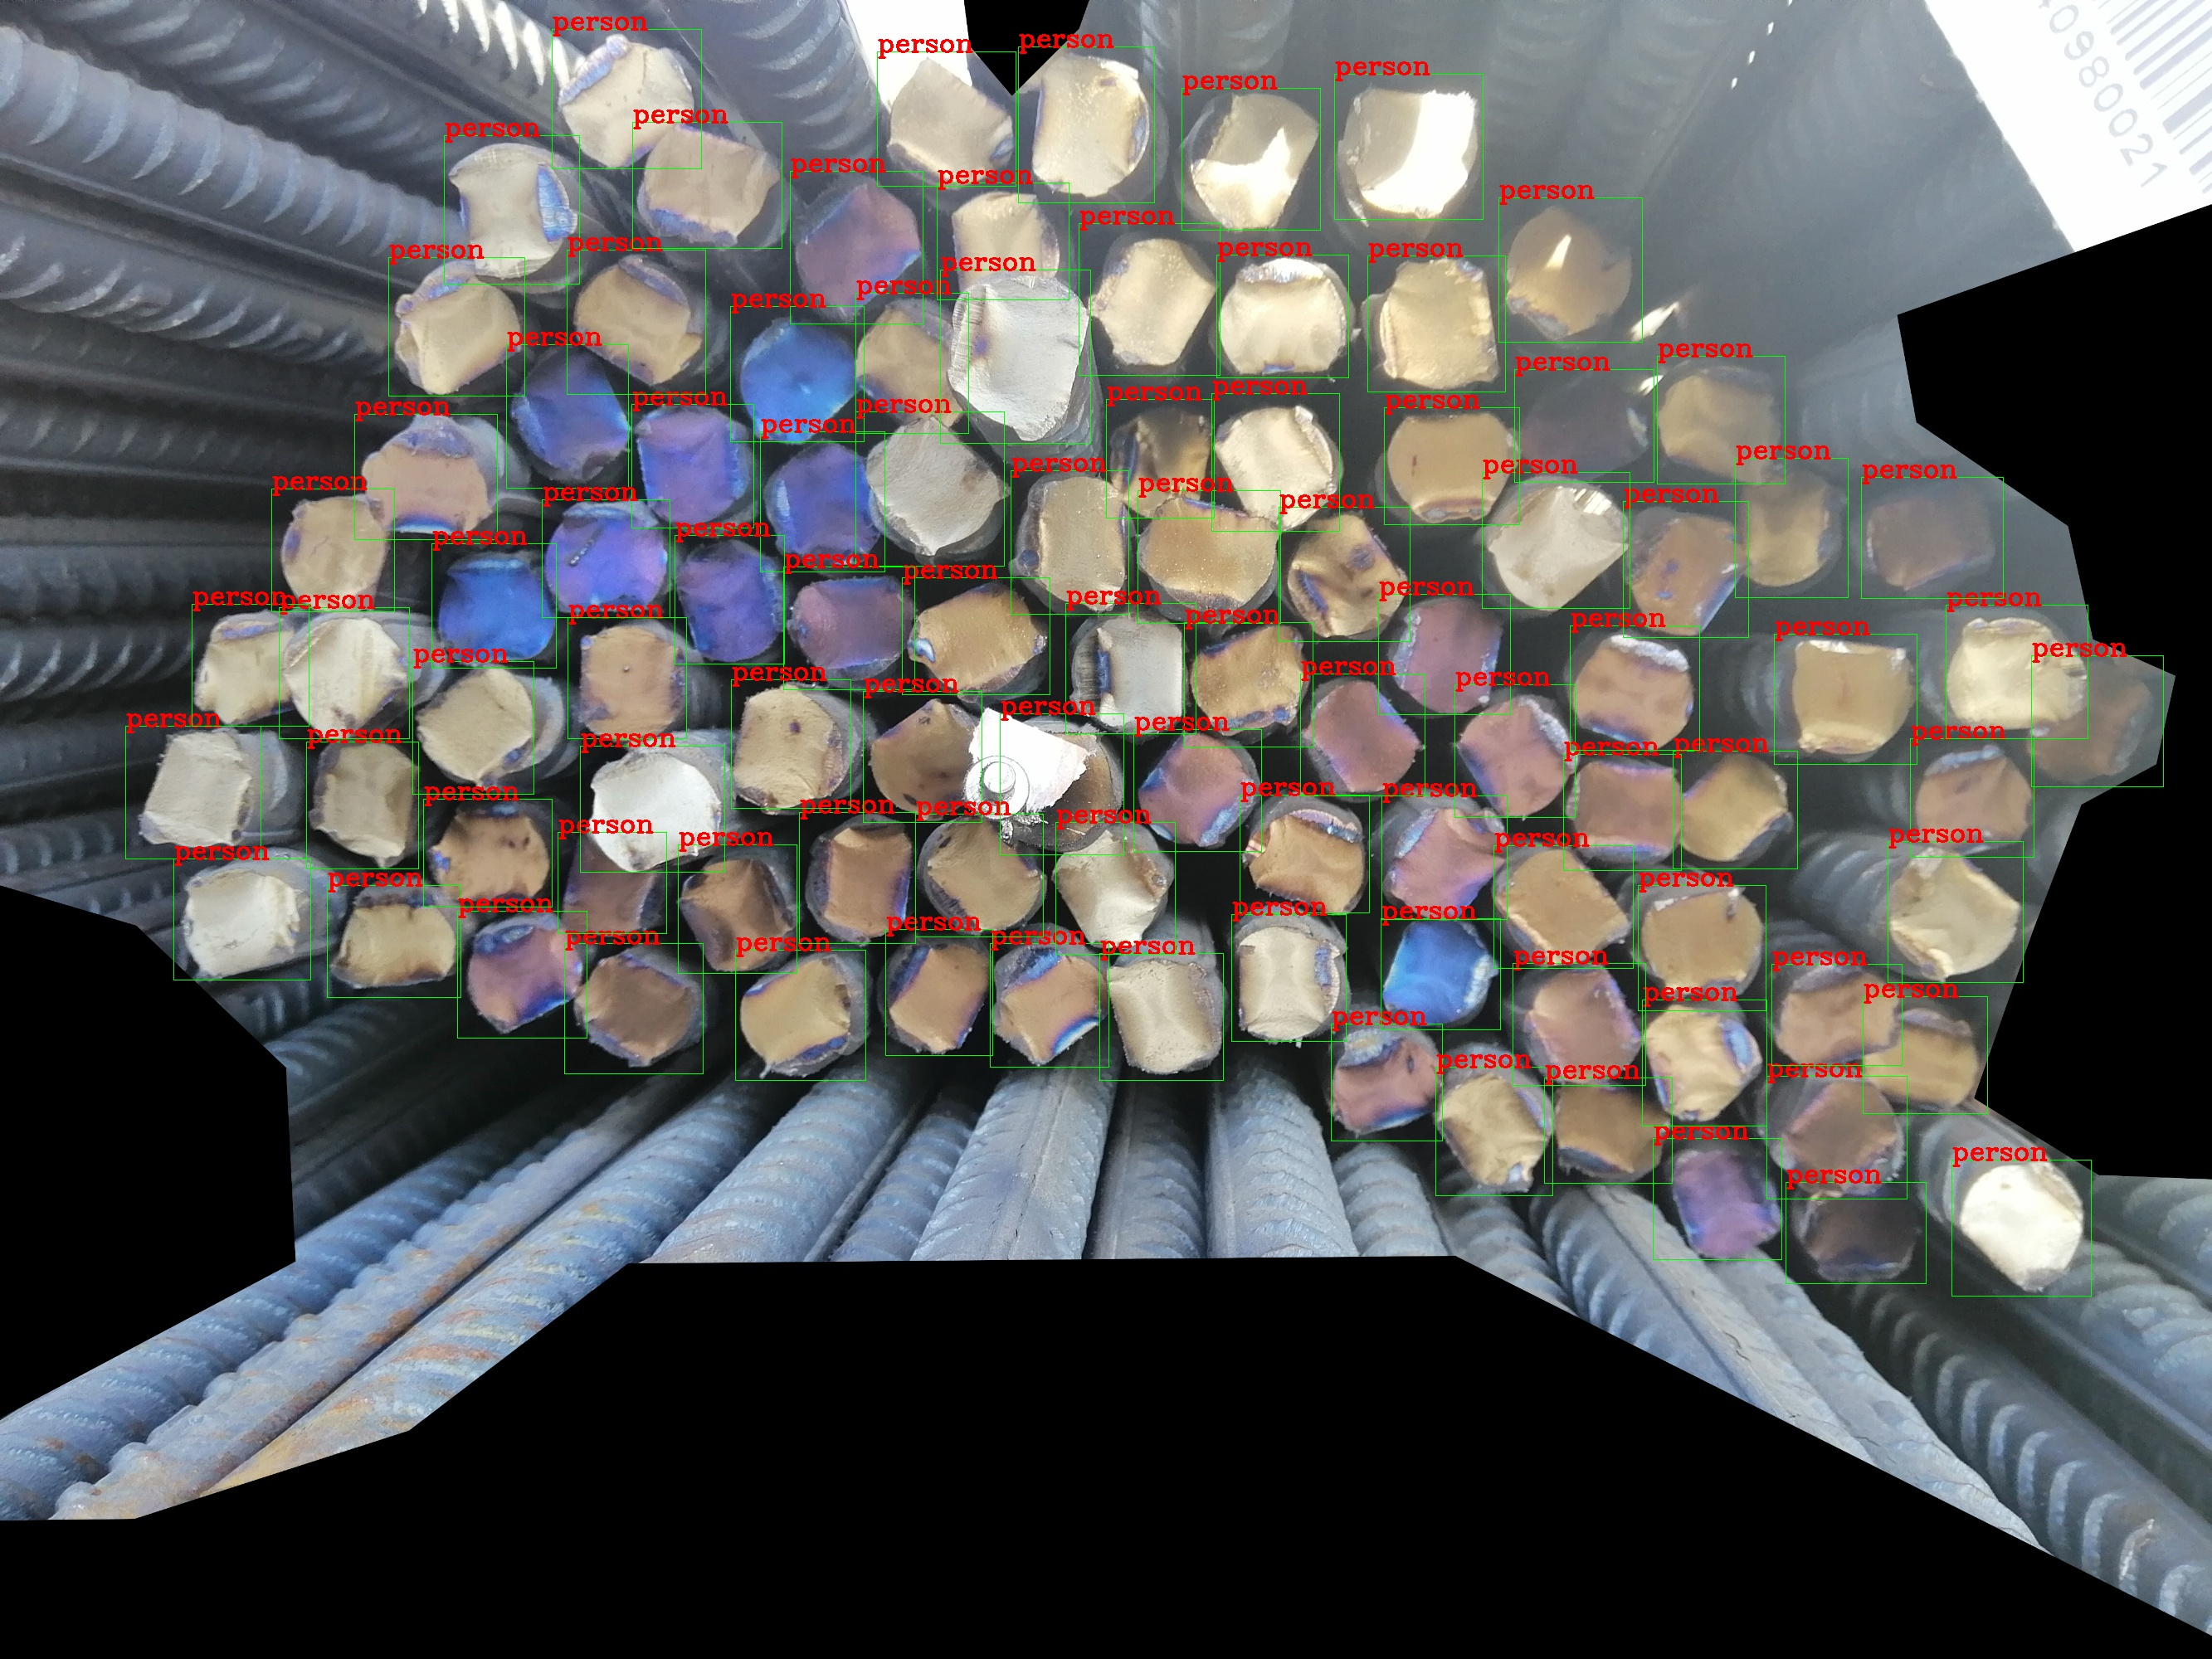person: (941, 270, 1091, 444), (856, 412, 1005, 567), (1335, 75, 1484, 220), (1079, 224, 1220, 376), (1019, 47, 1155, 203), (553, 30, 702, 169), (1499, 198, 1643, 343), (445, 136, 580, 285), (791, 172, 923, 324), (568, 251, 706, 395), (1483, 473, 1630, 609), (1182, 89, 1321, 231), (1888, 842, 2024, 983), (633, 123, 782, 249), (389, 258, 525, 397), (1952, 1160, 2092, 1297), (1946, 606, 2088, 739), (1138, 491, 1281, 624), (1368, 256, 1506, 392), (1775, 635, 1917, 765), (878, 52, 1016, 187), (581, 747, 725, 873), (731, 307, 865, 442), (126, 727, 261, 859), (565, 944, 704, 1074), (355, 415, 498, 540), (1212, 394, 1340, 532), (1279, 508, 1411, 642), (761, 432, 885, 572), (1001, 714, 1124, 855), (507, 345, 629, 489), (1862, 478, 2004, 599), (903, 578, 1050, 695), (1011, 471, 1129, 615), (280, 608, 410, 739), (736, 951, 866, 1081), (2032, 656, 2164, 787), (1767, 1077, 1907, 1199), (1494, 846, 1634, 969), (1624, 502, 1749, 638), (1066, 604, 1196, 734), (174, 859, 311, 980), (458, 912, 587, 1039), (1658, 357, 1786, 484), (1571, 626, 1700, 751), (413, 662, 534, 795), (1217, 255, 1349, 378), (1513, 964, 1646, 1086), (1185, 623, 1313, 747), (1639, 886, 1766, 1011), (916, 815, 1044, 937), (784, 567, 915, 690), (1379, 595, 1511, 715), (1455, 685, 1576, 818), (1385, 408, 1520, 525), (856, 294, 969, 434), (1736, 459, 1849, 598), (1515, 370, 1654, 483), (1643, 1000, 1767, 1126), (1100, 954, 1224, 1081), (1056, 823, 1176, 955), (432, 544, 557, 669), (1382, 796, 1508, 920), (1134, 730, 1262, 852), (864, 692, 982, 823), (938, 183, 1069, 300), (1301, 674, 1425, 796), (1654, 1139, 1782, 1260), (679, 845, 797, 974), (543, 500, 670, 618), (732, 680, 851, 809), (1240, 795, 1370, 913), (800, 813, 916, 944), (328, 886, 461, 998), (272, 489, 395, 612), (632, 405, 754, 528), (1436, 1068, 1553, 1196), (991, 944, 1109, 1068), (1674, 752, 1798, 869), (1911, 739, 2034, 858), (1232, 915, 1347, 1042), (192, 605, 309, 727), (1864, 997, 1988, 1114), (568, 618, 687, 739), (307, 742, 419, 869), (675, 536, 785, 664), (1786, 1183, 1927, 1284), (424, 800, 553, 907), (1564, 755, 1682, 871), (886, 930, 993, 1056), (1545, 1078, 1673, 1184), (1381, 919, 1501, 1030), (1772, 965, 1903, 1066), (1332, 1024, 1443, 1141), (1107, 400, 1215, 518), (558, 833, 667, 934)
